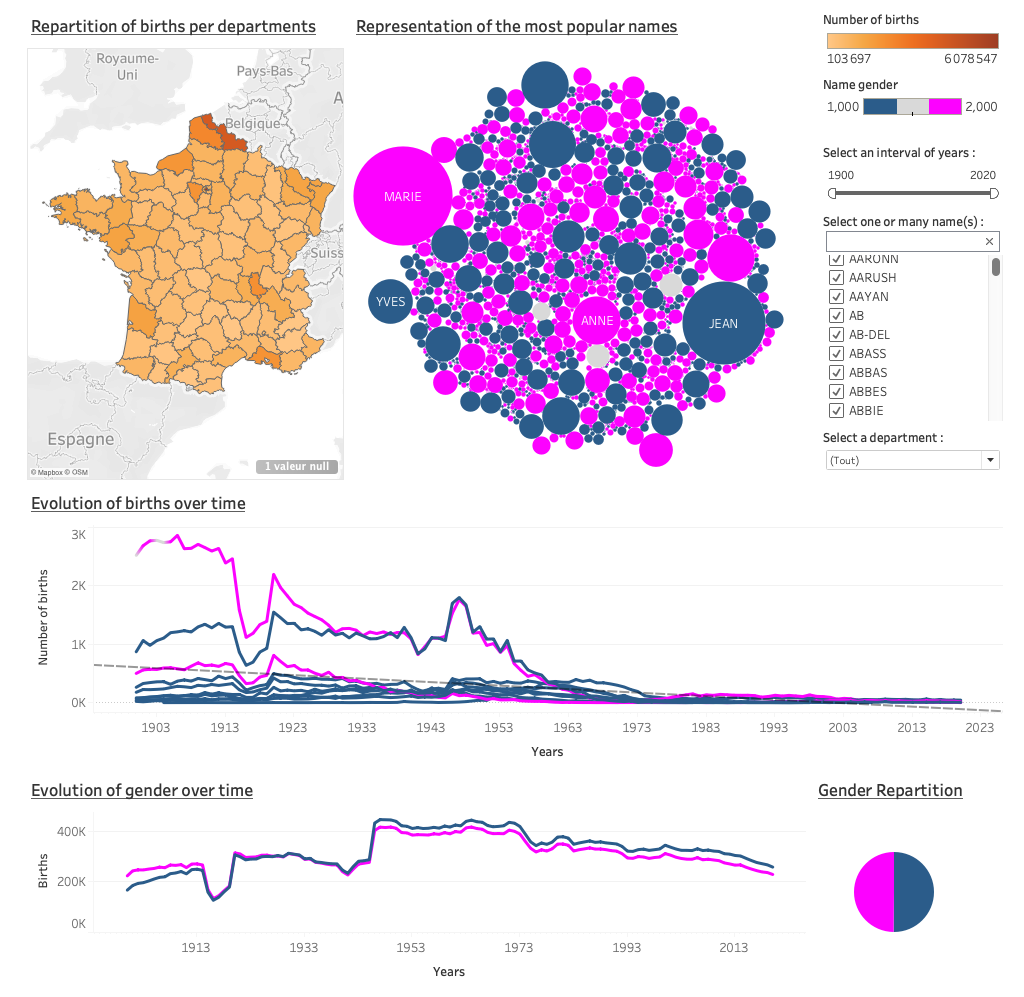

The dashboard page shown, as its layout file describes it:
{"tool":"tableau","page":{"name":"All Questions","canvas":[1000,800],"ordinal":0},"visuals":[{"type":"worksheet","title":"Map France","mark":"Automatic","box":[8,8,379,380]},{"type":"worksheet","title":"Birth number Decades","mark":"Circle","box":[387,8,417,380]},{"type":"legend","title":"Map France","param":"[federated.1gvausr021ll4w0zwiqct1gzo1lz].[sum:nombre:qk]","box":[804,8,188,65]},{"type":"legend","title":"Birth number Decades","param":"[federated.1gvausr021ll4w0zwiqct1gzo1lz].[avg:sexe:qk]","box":[804,73,188,68]},{"type":"filter","title":"Birth/Years","param":"[federated.1gvausr021ll4w0zwiqct1gzo1lz].[tyr:Annais (copie)_97882969392484352:q","box":[804,141,188,69]},{"type":"filter","title":"Map France","param":"[federated.1gvausr021ll4w0zwiqct1gzo1lz].[Action (Preusuel)]","box":[804,210,188,126]},{"type":"filter","title":"Map France","param":"[federated.1gvausr021ll4w0zwiqct1gzo1lz].[none:nom:nk]","box":[804,336,188,52]},{"type":"worksheet","title":"Birth/Years","mark":"Automatic","rows":["nombre"],"cols":["Annais (copie)_97882969392484352"],"box":[8,388,984,229]},{"type":"worksheet","title":"Gender evol","mark":"Automatic","rows":["nombre"],"cols":["Annais (copie)_97882969392484352"],"box":[8,617,787,175]},{"type":"worksheet","title":"Gender Repartition","mark":"Pie","box":[795,617,197,175]}]}

Visuals, with their boxes on the page's 1000x800 design canvas (x1, y1, x2, y2). These are canvas units, not pixel positions in the 1024x997 screenshot, which may show the page scaled, cropped or inside an application window:
"Map France" worksheet: {"x1": 8, "y1": 8, "x2": 387, "y2": 388}
"Birth number Decades" worksheet (Circle marks): {"x1": 387, "y1": 8, "x2": 804, "y2": 388}
"Map France" legend: {"x1": 804, "y1": 8, "x2": 992, "y2": 73}
"Birth number Decades" legend: {"x1": 804, "y1": 73, "x2": 992, "y2": 141}
"Birth/Years" filter: {"x1": 804, "y1": 141, "x2": 992, "y2": 210}
"Map France" filter: {"x1": 804, "y1": 210, "x2": 992, "y2": 336}
"Map France" filter: {"x1": 804, "y1": 336, "x2": 992, "y2": 388}
"Birth/Years" worksheet: {"x1": 8, "y1": 388, "x2": 992, "y2": 617}
"Gender evol" worksheet: {"x1": 8, "y1": 617, "x2": 795, "y2": 792}
"Gender Repartition" worksheet (Pie marks): {"x1": 795, "y1": 617, "x2": 992, "y2": 792}
